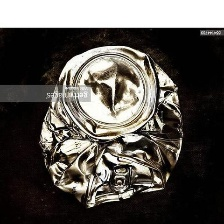can: (36, 44, 185, 210)
